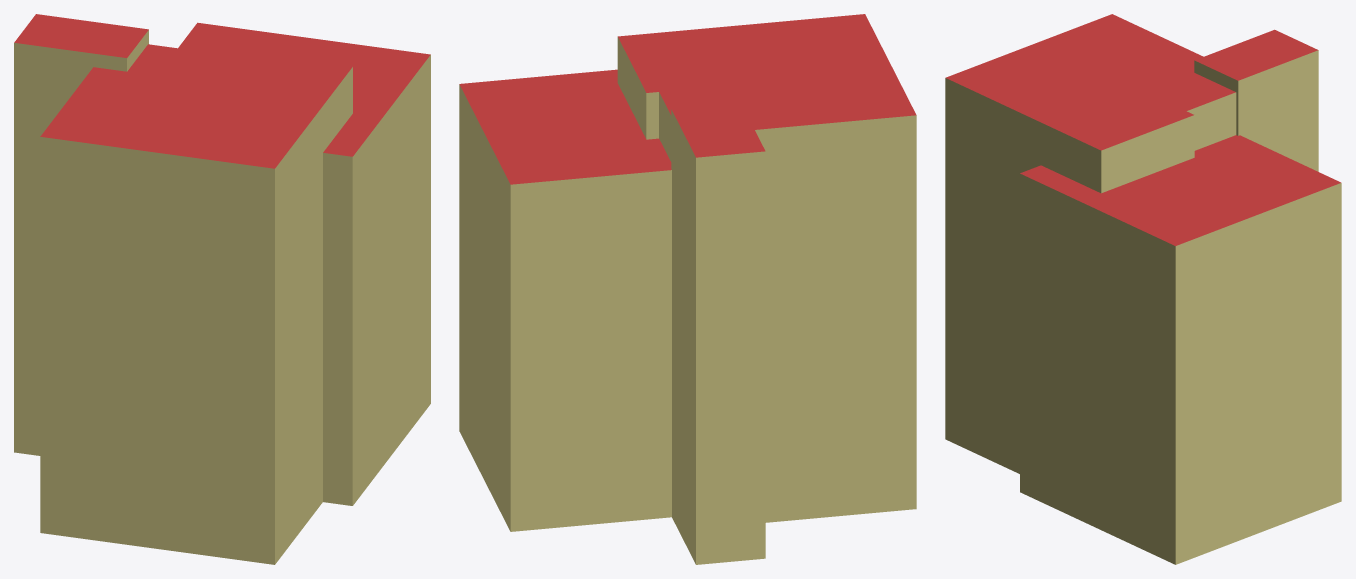
3 renders of one model, left to right at view 1: azimuth 30°, elevation 25°; view 2: azimuth 150°, elevation 25°; view 3: azimuth 270°, elevation 25°, orthographic. The views are drawn at different scales.
Parts seen in each view (by area): view 1: group_4, group_10, group_3, group_7, group_9, group_6; view 2: group_10, group_4, group_7, group_3, group_9, group_6; view 3: group_10, group_4, group_3, group_9, group_7, group_6.
Boxes of the visible parts, <box> form: group_4: <box>40,67,352,564</box>; group_10: <box>323,55,430,505</box>; group_3: <box>40,44,352,168</box>; group_7: <box>14,30,148,455</box>; group_9: <box>178,22,430,156</box>; group_6: <box>14,14,148,57</box>; group_10: <box>459,84,671,531</box>; group_4: <box>617,37,916,522</box>; group_7: <box>671,109,765,564</box>; group_3: <box>618,14,916,129</box>; group_9: <box>459,69,671,184</box>; group_6: <box>671,102,765,157</box>; group_10: <box>1020,173,1341,564</box>; group_4: <box>945,78,1236,473</box>; group_3: <box>945,14,1235,150</box>; group_9: <box>1020,135,1340,245</box>; group_7: <box>1194,50,1318,171</box>; group_6: <box>1195,29,1318,80</box>.
Size of the model in its own units: 25.52 by 22.56 by 23.49.
